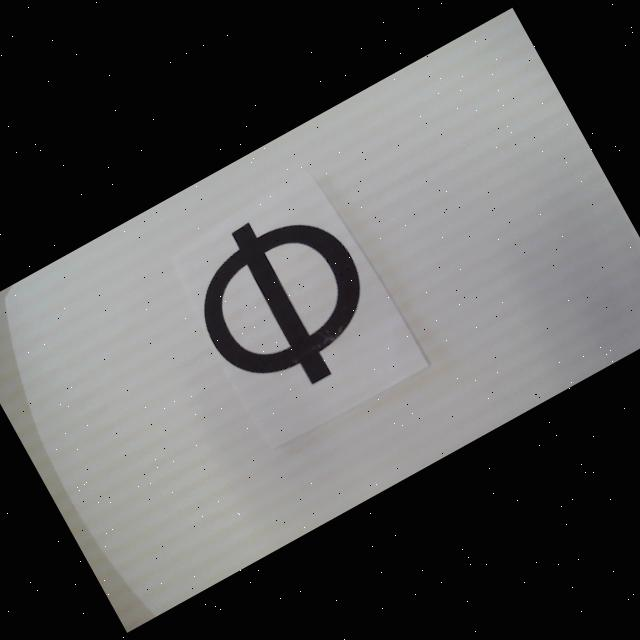PHI: (170, 185, 398, 418)
